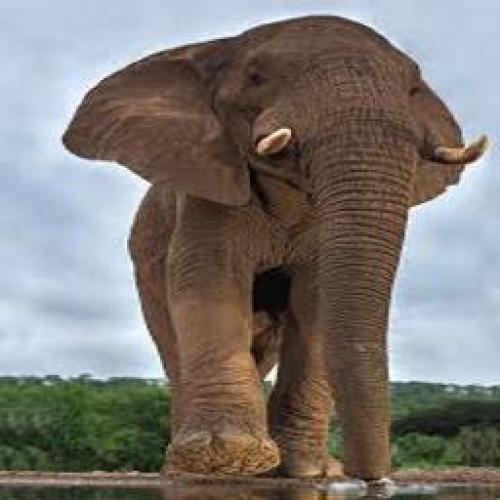african_elephant-endangered: (62, 14, 489, 478)
